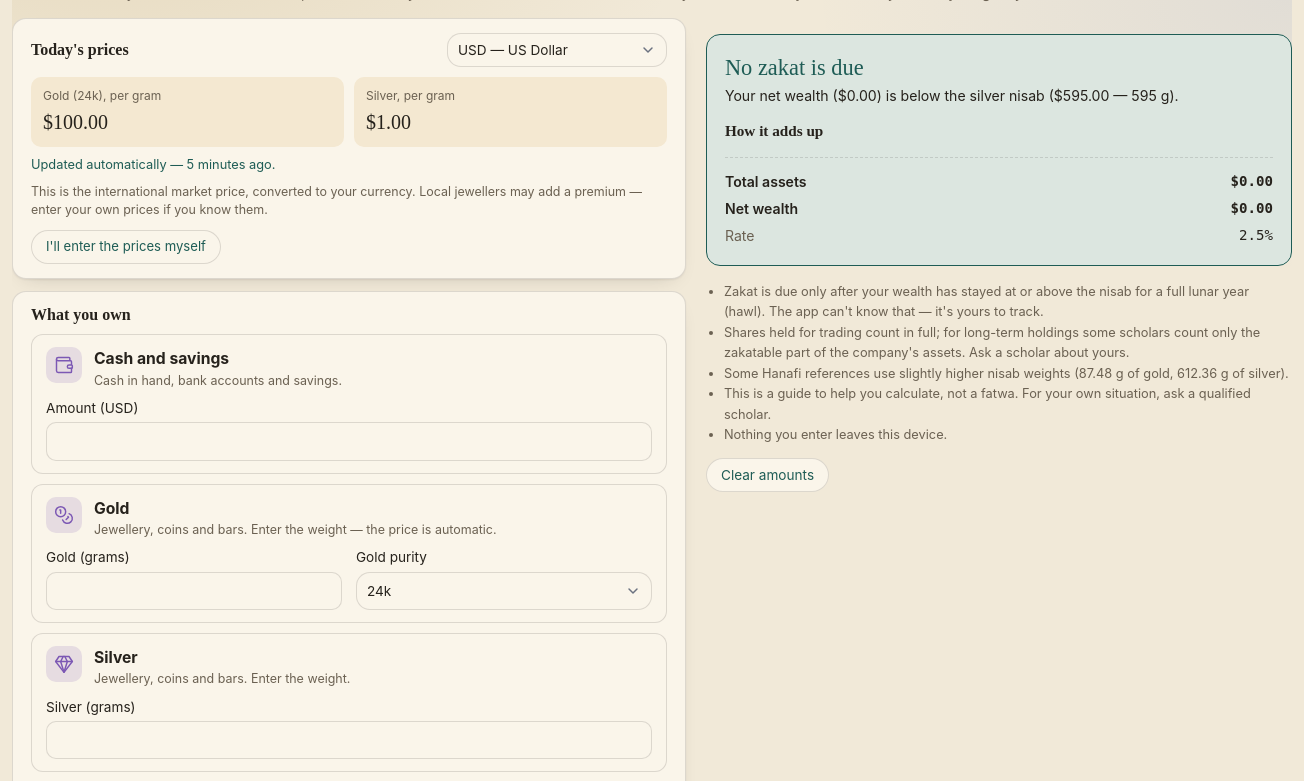
Scenario: ZakatCalculator — the five kinds of wealth › subtracts debts that are due now
Type "10000" into the field labelled "Amount (USD)" at x=349, y=441, box [46,422,652,461]
(page scrolled)
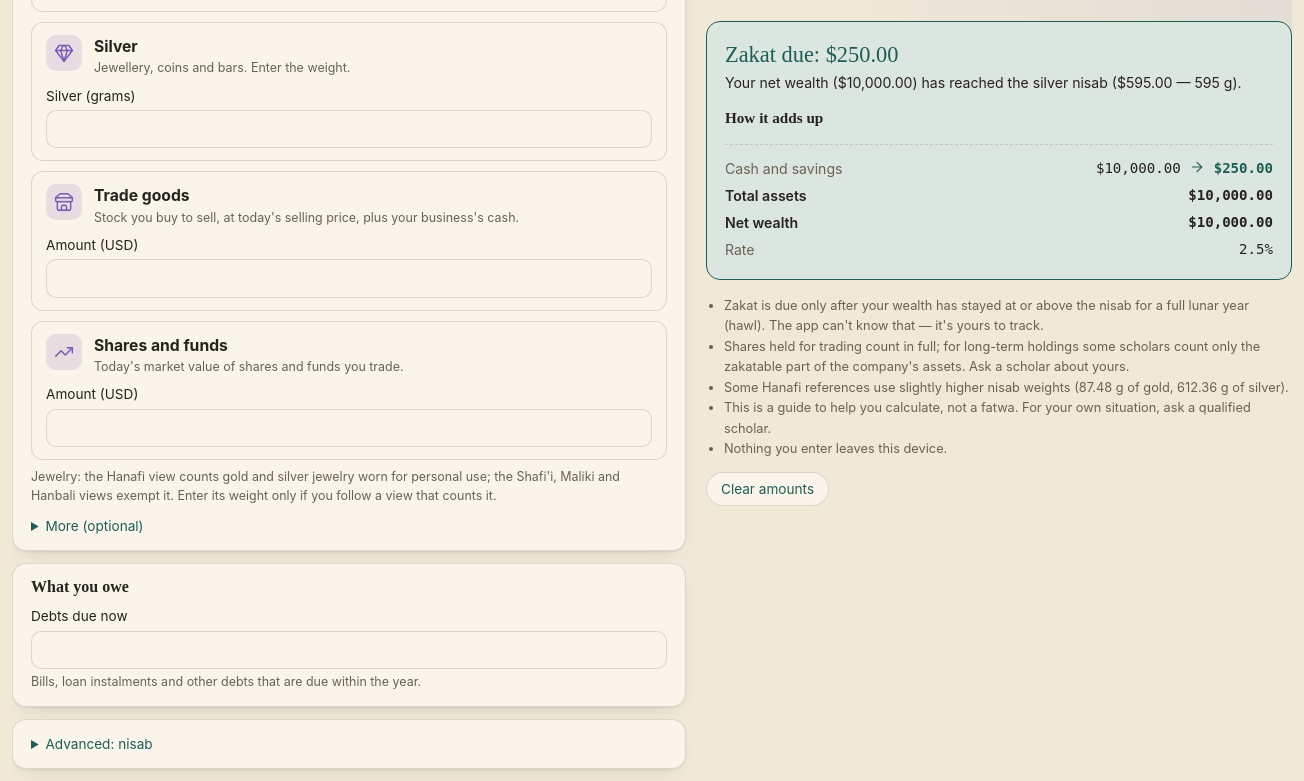
Type "9700" into the field labelled "Debts due now" at x=349, y=650, box [31,631,667,669]
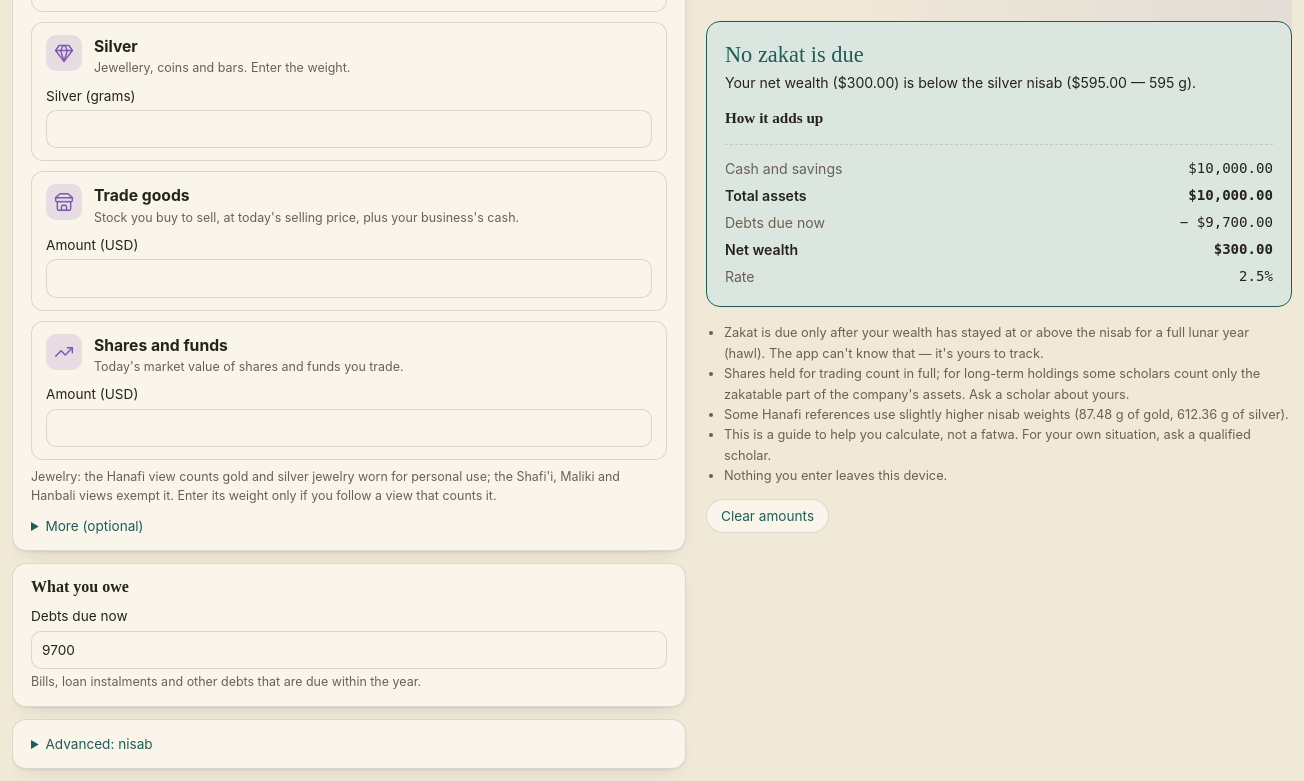
Result: the element with class "zakat-result" shows "No zakat is due" at [725,42,864,67]
